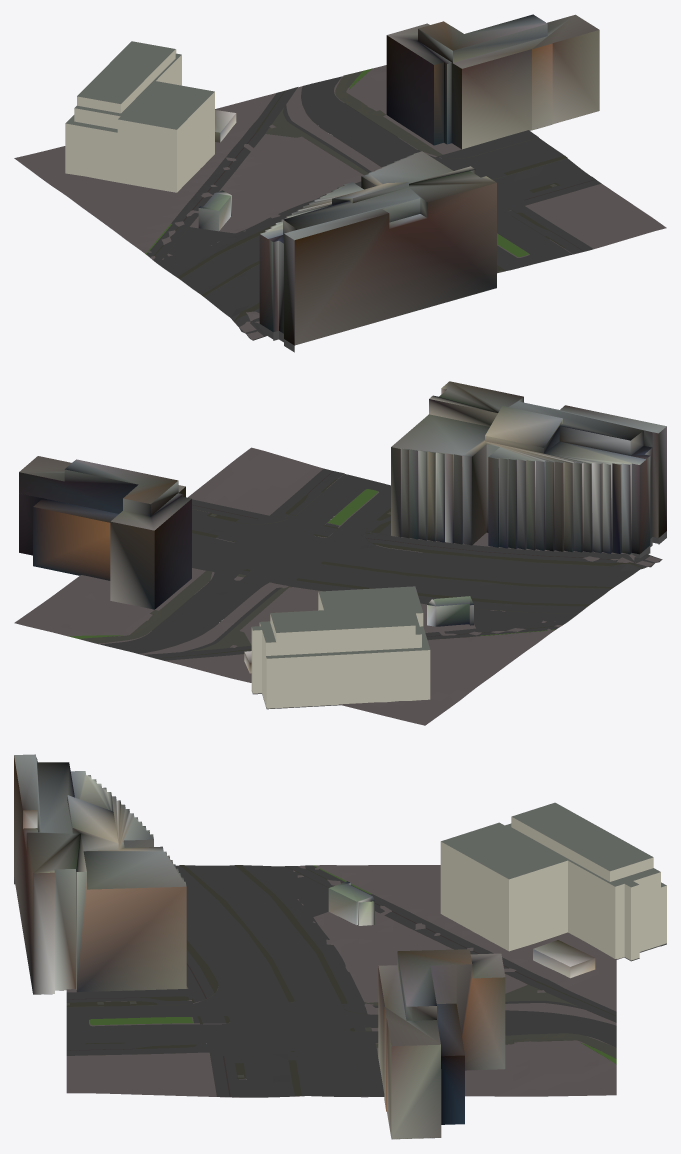
The picture shows the model from 3 angles, top to bottom: view 1: azimuth 30°, elevation 25°; view 2: azimuth 150°, elevation 25°; view 3: azimuth 270°, elevation 25°; orthographic projection. The views are drawn at different scales.
Visible parts, largest first — view 1: c_m20_p04; view 2: c_m20_p04; view 3: c_m20_p04.
Boxes of the visible parts, <box> form: c_m20_p04: <box>14,14,666,352</box>; c_m20_p04: <box>14,381,666,725</box>; c_m20_p04: <box>14,754,666,1139</box>.
Bounding box in the file's own units: 151 × 35.18 × 152.
